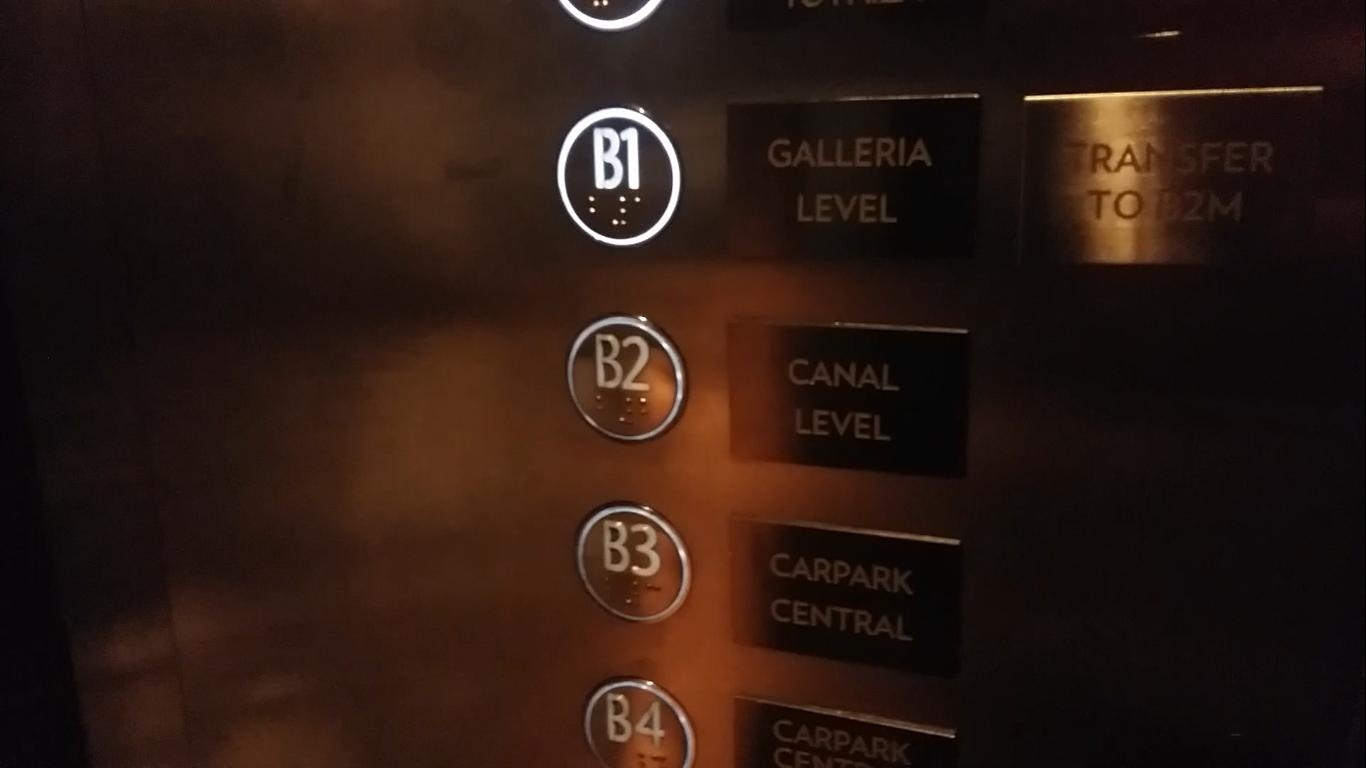B1: (550, 102, 686, 250)
B2: (560, 311, 688, 448)
B3: (570, 499, 692, 625)
B4: (577, 675, 696, 768)
